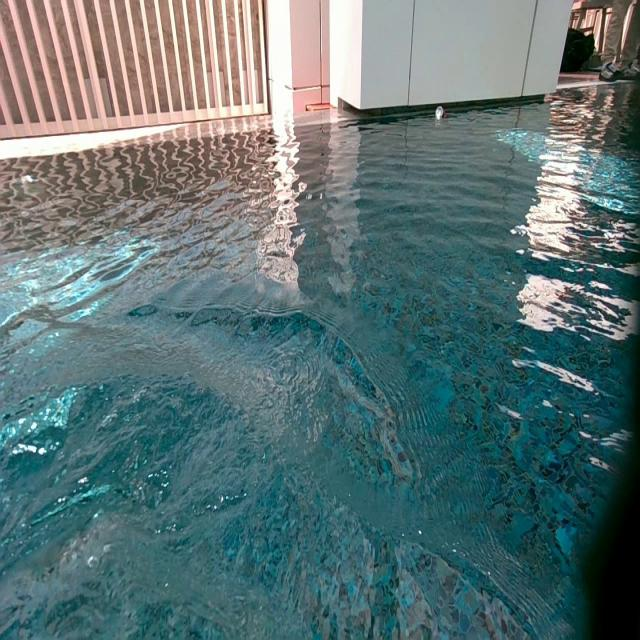Cans: (437, 106, 447, 120)
